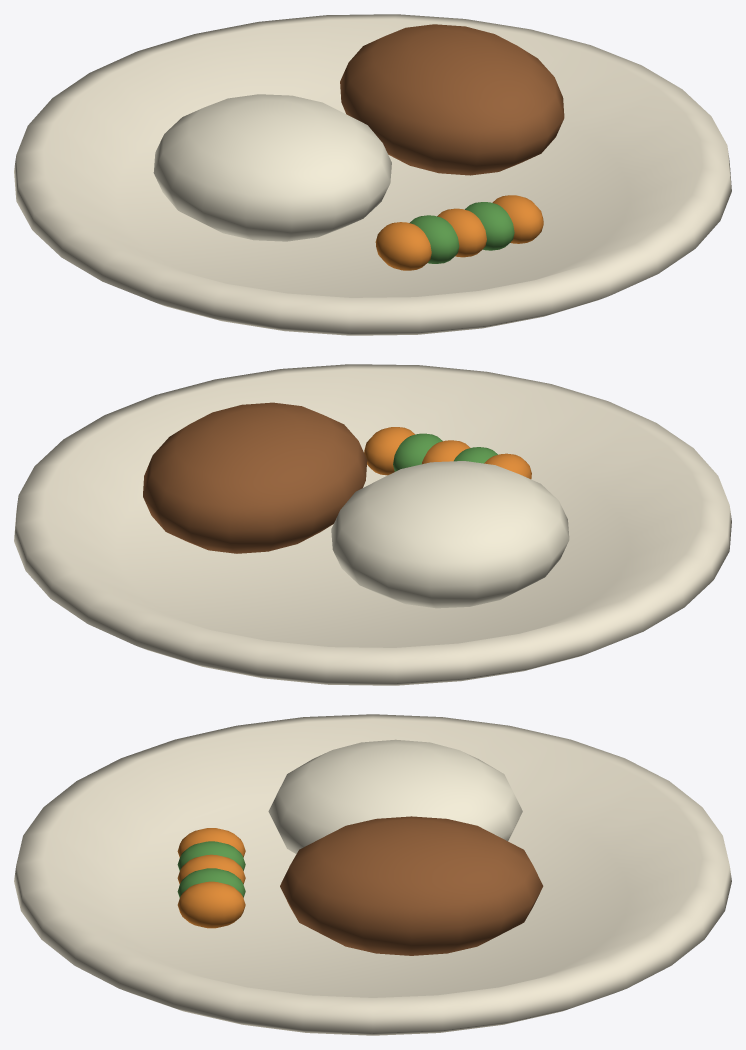
Rendered from HotelTogether-MealPlate.glb.
3 views of the same model, one above another, from view 1: azimuth 30°, elevation 25°; view 2: azimuth 150°, elevation 25°; view 3: azimuth 270°, elevation 25° (orthographic).
Parts seen in each view (by area): view 1: Plate_Ceramic, Plate_Rice, Plate_Roast, Plate_Vegetable, Plate_Vegetable.004, Plate_Vegetable.001, Plate_Vegetable.002, Plate_Vegetable.003; view 2: Plate_Ceramic, Plate_Rice, Plate_Roast, Plate_Vegetable.004, Plate_Vegetable.003, Plate_Vegetable.002, Plate_Vegetable; view 3: Plate_Ceramic, Plate_Roast, Plate_Rice, Plate_Vegetable.004, Plate_Vegetable.002, Plate_Vegetable, Plate_Vegetable.001, Plate_Vegetable.003.
Boxes of the visible parts, left/top/right/bottom form: Plate_Ceramic: left=14, top=14, right=731, bottom=335; Plate_Rice: left=153, top=94, right=391, bottom=241; Plate_Roast: left=340, top=24, right=564, bottom=175; Plate_Vegetable: left=375, top=222, right=431, bottom=270; Plate_Vegetable.004: left=492, top=195, right=543, bottom=243; Plate_Vegetable.001: left=409, top=215, right=459, bottom=263; Plate_Vegetable.002: left=437, top=208, right=486, bottom=257; Plate_Vegetable.003: left=465, top=202, right=514, bottom=250; Plate_Ceramic: left=14, top=364, right=731, bottom=685; Plate_Rice: left=331, top=461, right=569, bottom=608; Plate_Roast: left=143, top=402, right=367, bottom=553; Plate_Vegetable.004: left=364, top=427, right=414, bottom=475; Plate_Vegetable.003: left=393, top=433, right=442, bottom=471; Plate_Vegetable.002: left=422, top=440, right=470, bottom=464; Plate_Vegetable: left=484, top=453, right=531, bottom=479; Plate_Ceramic: left=14, top=714, right=731, bottom=1035; Plate_Roast: left=280, top=816, right=543, bottom=955; Plate_Rice: left=268, top=739, right=522, bottom=853; Plate_Vegetable.004: left=177, top=881, right=245, bottom=928; Plate_Vegetable.002: left=177, top=854, right=245, bottom=884; Plate_Vegetable: left=177, top=828, right=245, bottom=857; Plate_Vegetable.001: left=177, top=841, right=245, bottom=870; Plate_Vegetable.003: left=177, top=868, right=245, bottom=897.
Bounding box in the file's own units: 0.316 × 0.079 × 0.316.
